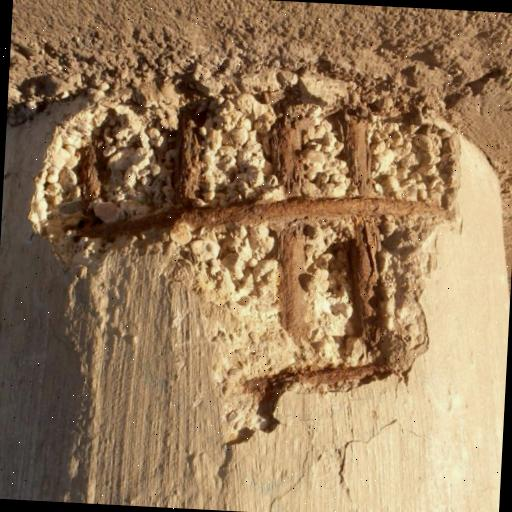spalling: (24, 88, 463, 446)
